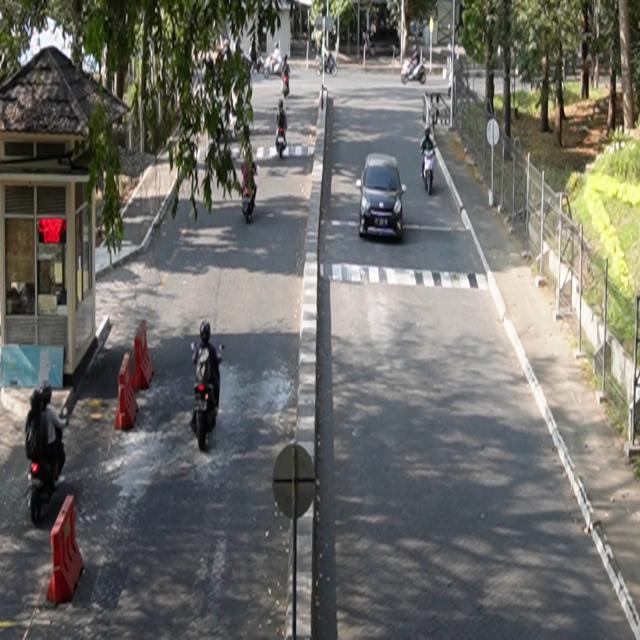car: (357, 153, 408, 240)
